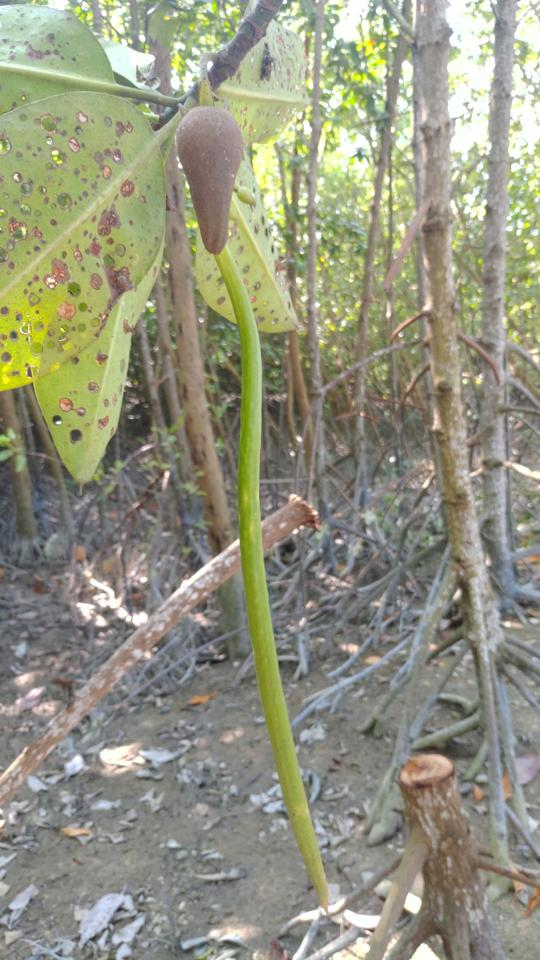mentah: (152, 74, 352, 934)
